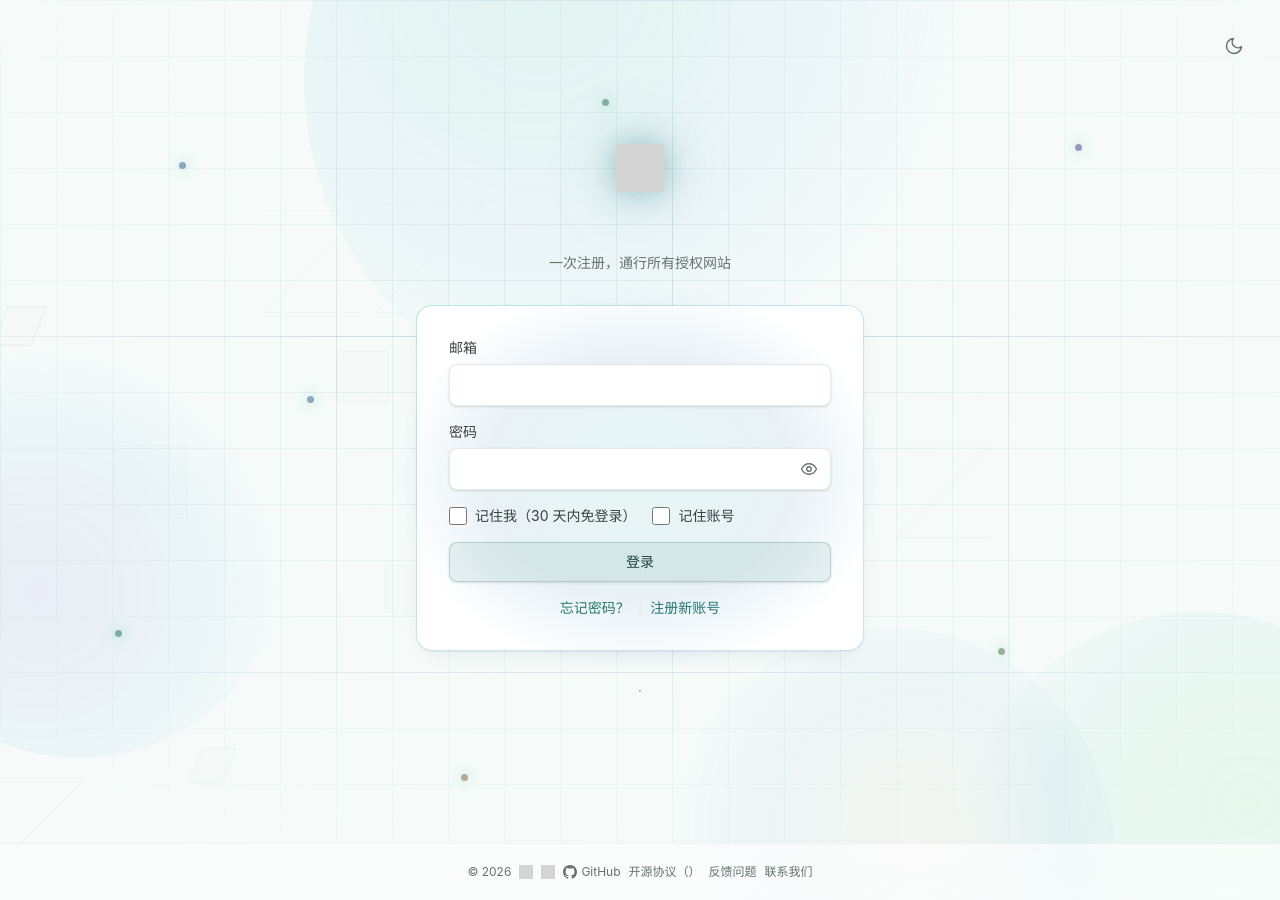
Test: LoginPage › 登录失败不落盘记住的凭据
Type "a@example.com" into the field labelled "邮箱". click: (640, 385)
box: [449,364,831,406]
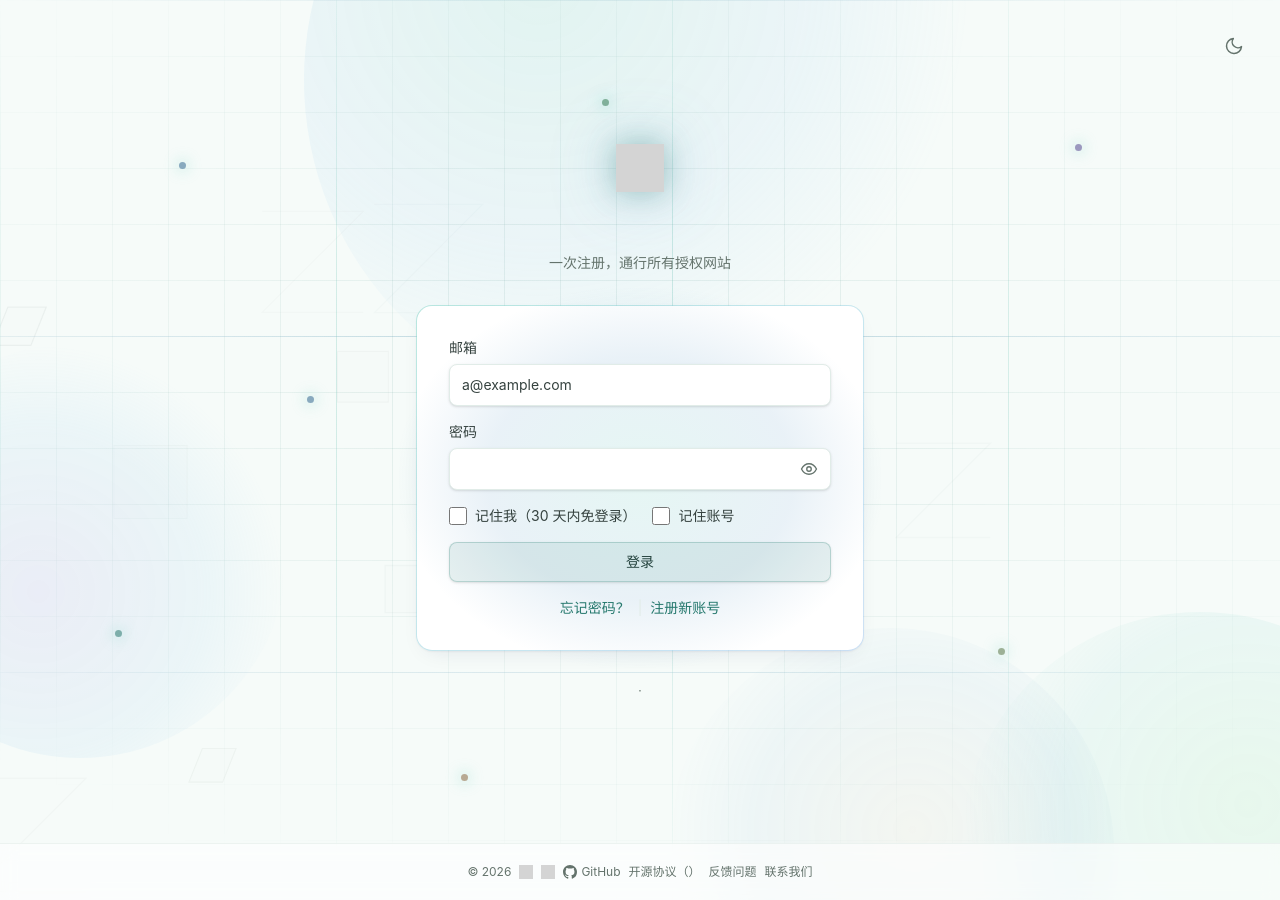
Type "wrongpass" into the password field labelled "密码". click: (640, 469)
box: [449,448,831,490]
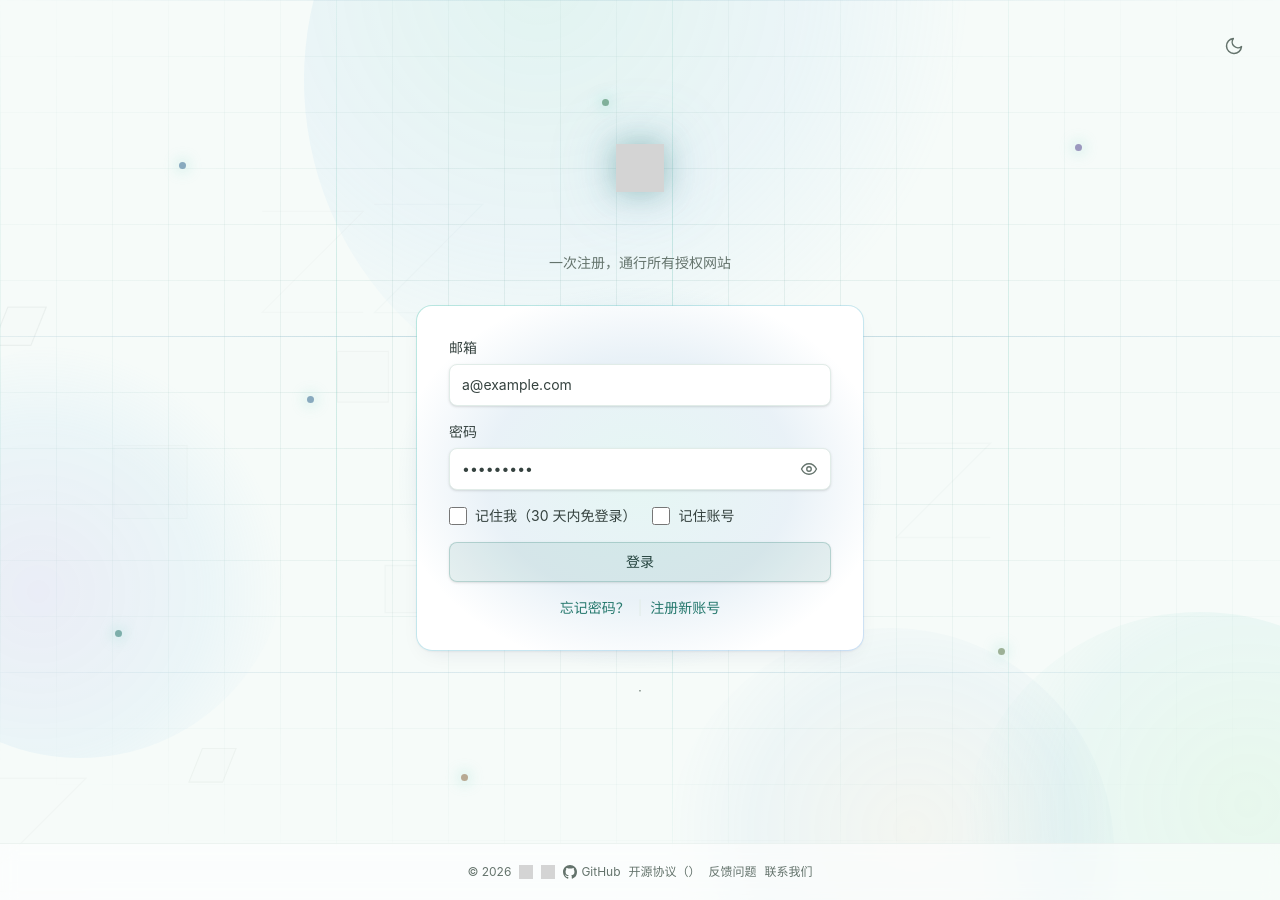
Click the checkbox labelled "记住账号". click: (661, 516)
box: [652,507,670,525]
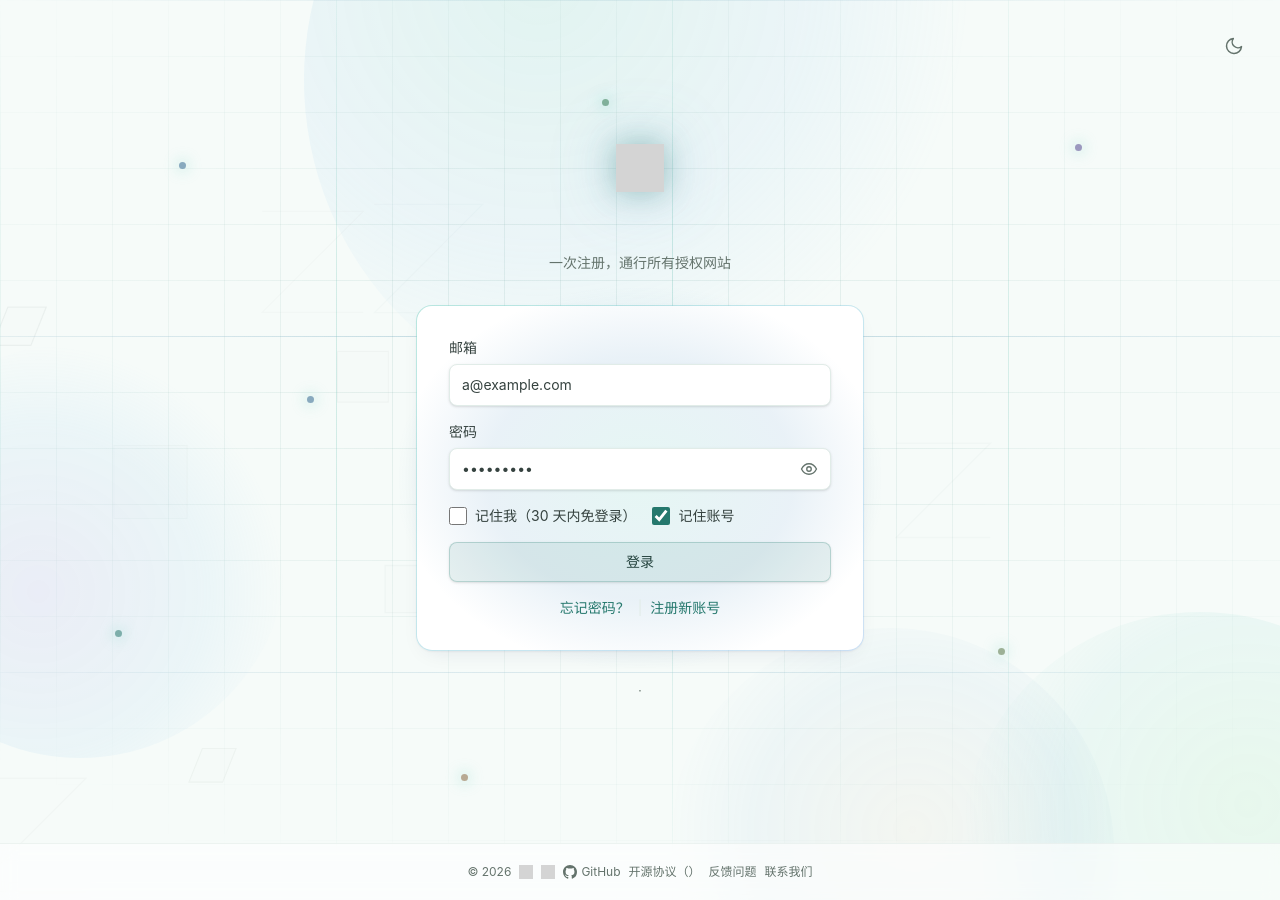
Click the button "登录". click: (640, 562)
box: [449,542,831,582]
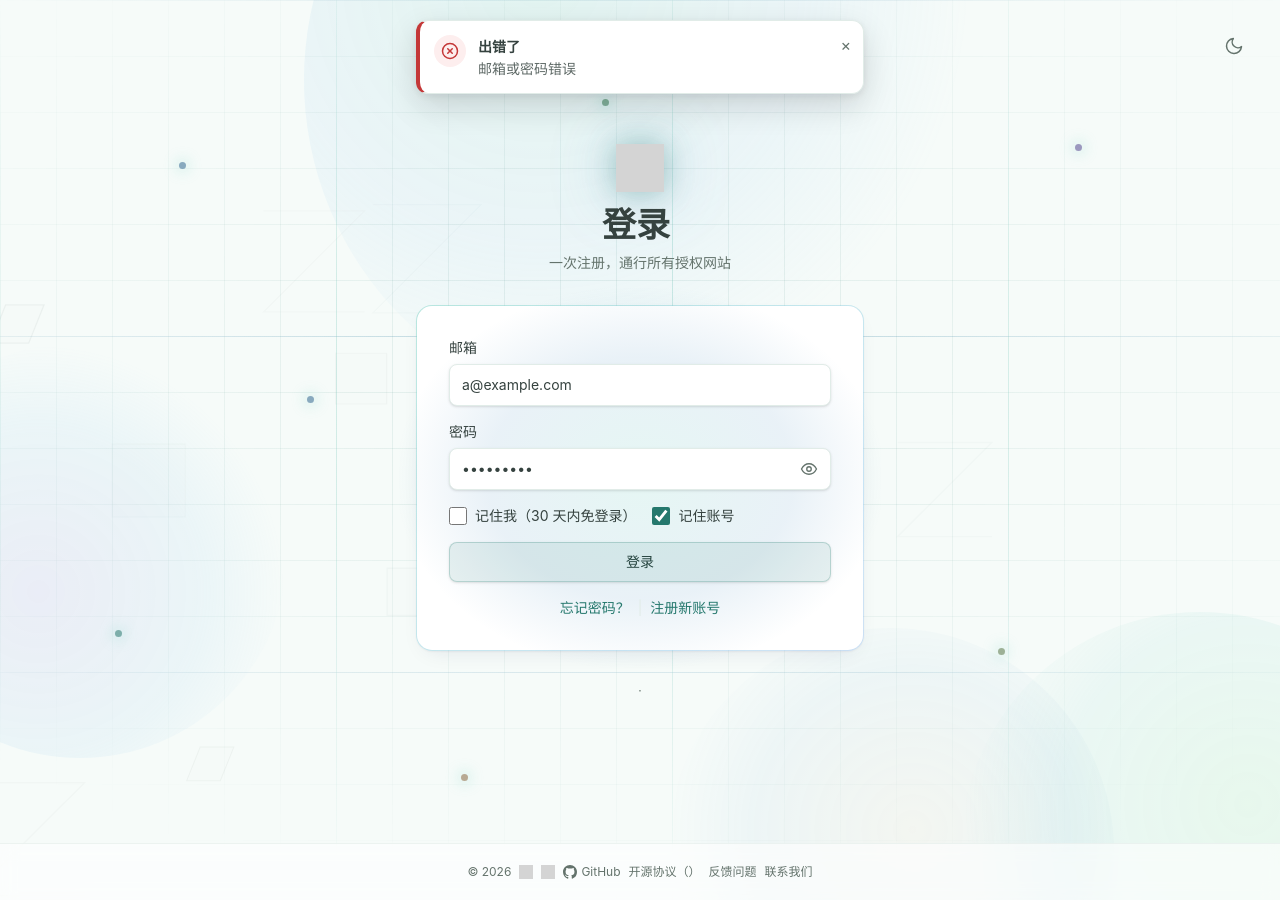
expect the text "邮箱或密码错误" is shown: met, box [478,60,576,77]
